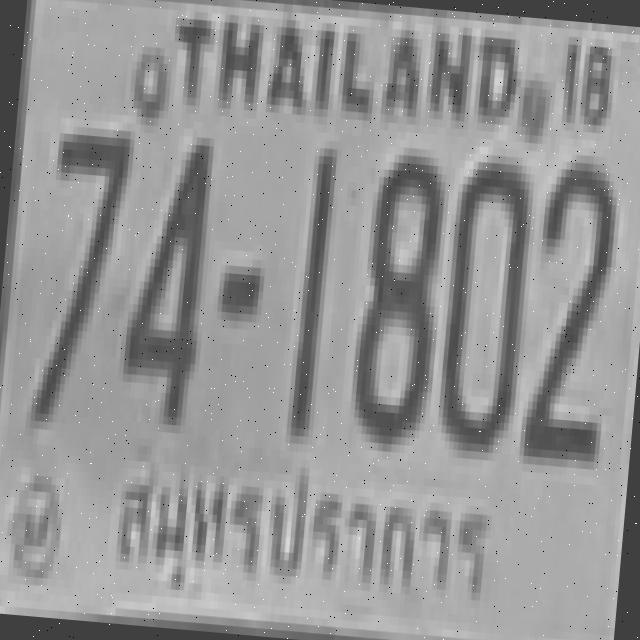0: (432, 152, 532, 446)
1: (286, 143, 334, 433)
2: (520, 152, 618, 461)
4: (115, 124, 210, 418)
7: (30, 120, 131, 422)
8: (348, 144, 444, 438)
SamutPrakan: (104, 444, 502, 624)
